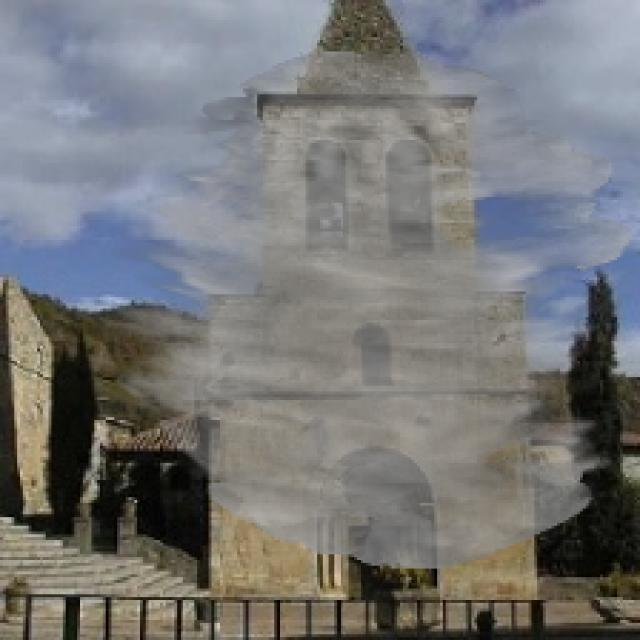smoke: (111, 49, 634, 568)
